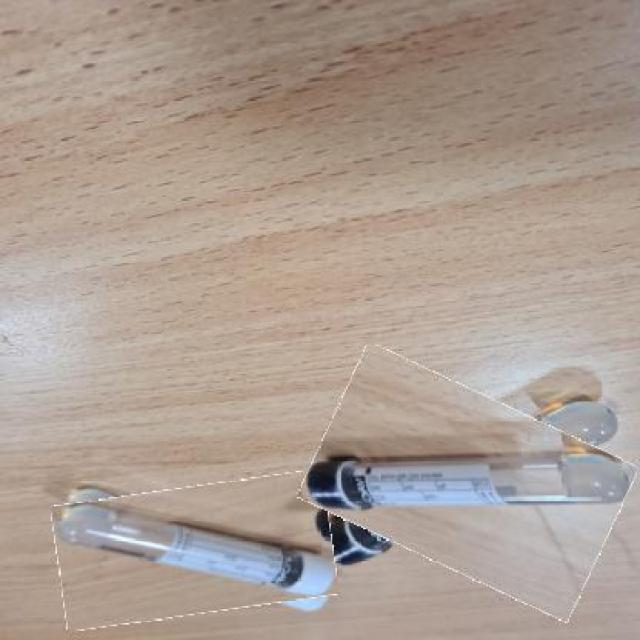Experimental-tube: (308, 370, 628, 595), (56, 478, 336, 622)
